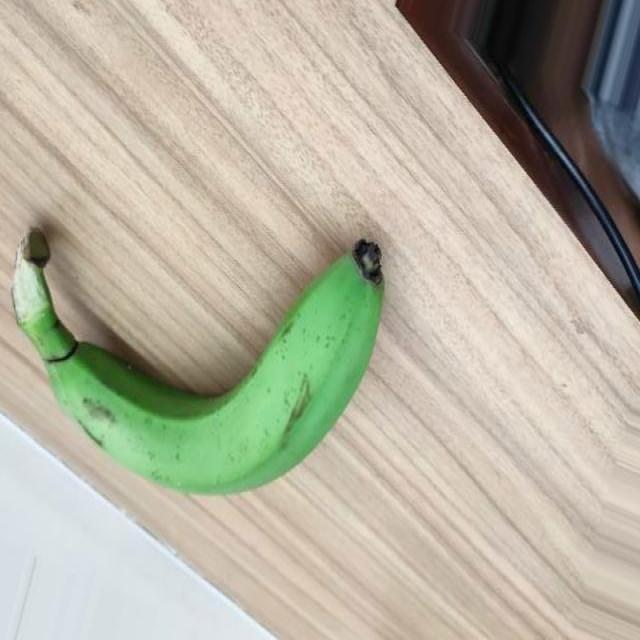Unripe: (10, 226, 384, 496)
